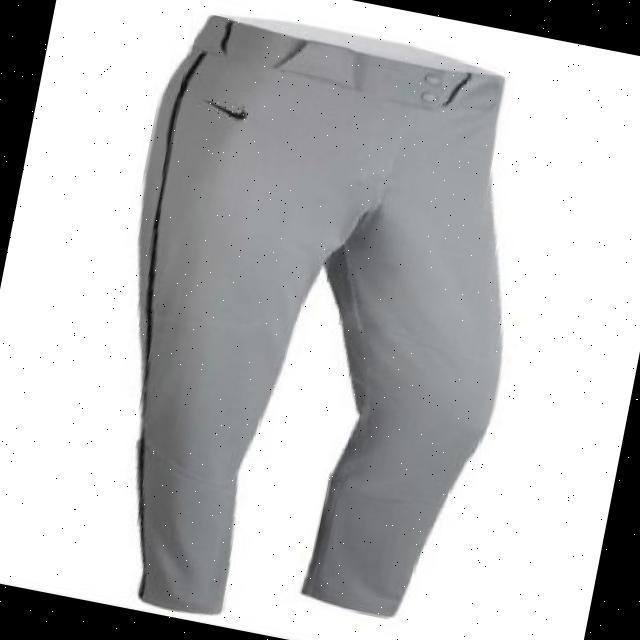Nike: (206, 99, 250, 121)
